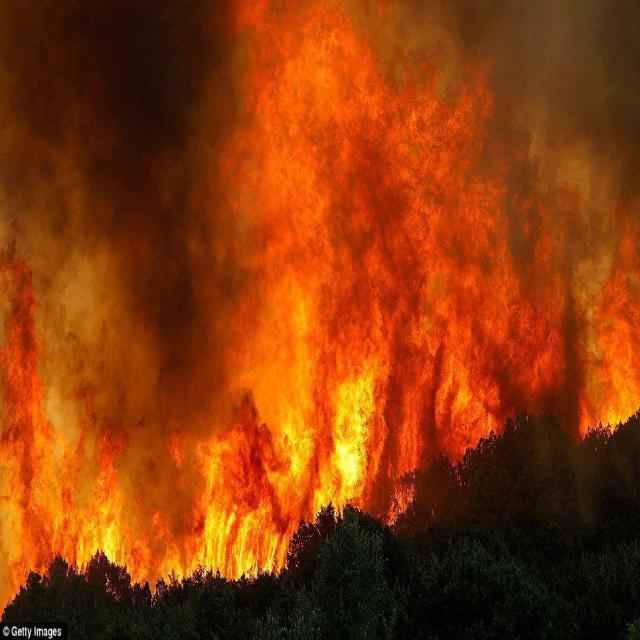fire: (196, 5, 638, 584), (0, 191, 126, 589), (128, 488, 208, 584)
smoke: (119, 132, 218, 448)
